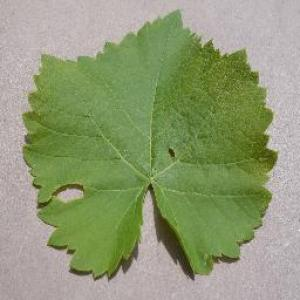Folha: (20, 8, 278, 280)
